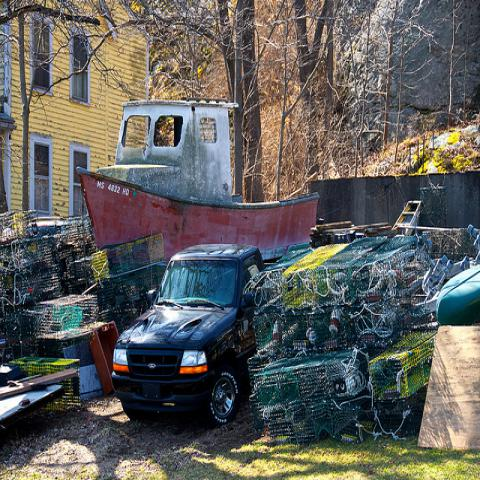truck: (112, 240, 274, 424)
